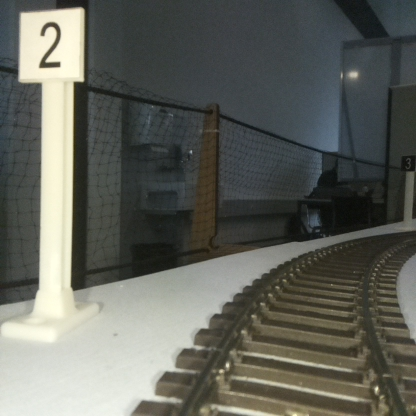black-info-3: (401, 154, 415, 229)
white-info-2: (18, 8, 83, 337)
